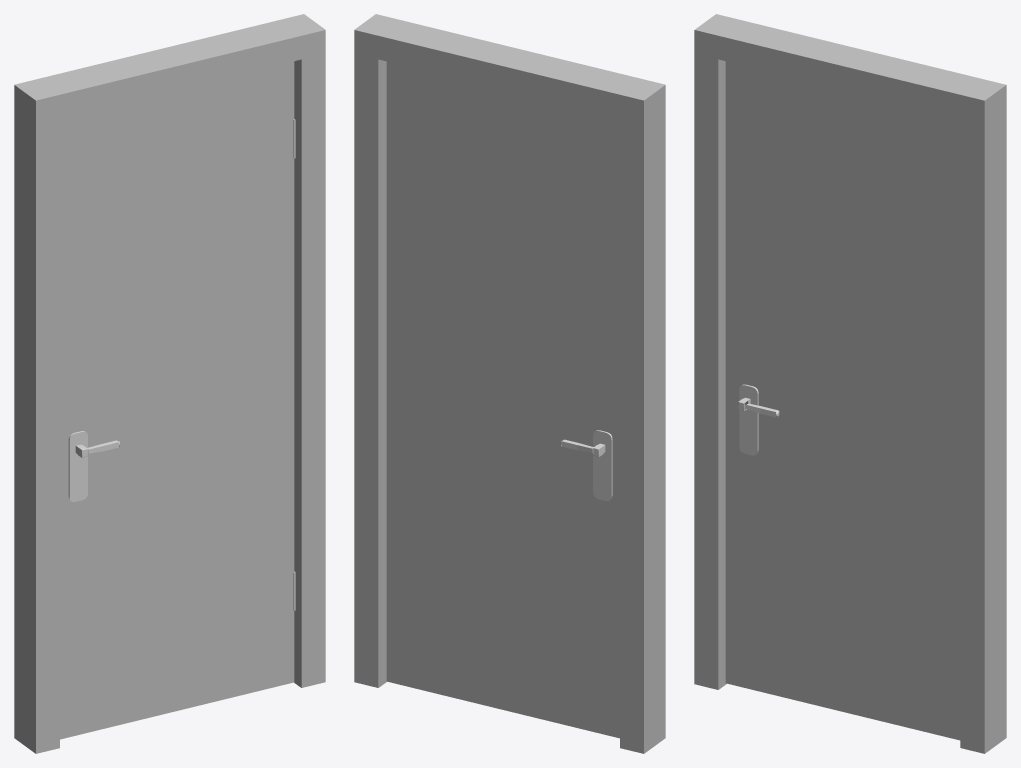
The model's file is Door.fbx.
3 views of the same model, side by side, from view 1: azimuth 30°, elevation 25°; view 2: azimuth 150°, elevation 25°; view 3: azimuth 330°, elevation 25° (orthographic).
Parts seen in each view (by area): view 1: Door, door frame; view 2: Door, door frame; view 3: Door, door frame.
Part boxes in pixels (x1=…): Door: x1=60, y1=61, x2=295, y2=739; door frame: x1=14, y1=14, x2=325, y2=753; Door: x1=386, y1=61, x2=619, y2=738; door frame: x1=354, y1=14, x2=665, y2=753; Door: x1=725, y1=61, x2=960, y2=740; door frame: x1=694, y1=14, x2=1006, y2=753.
Bounding box in the file's own units: 98.43 × 212 × 13.53.
